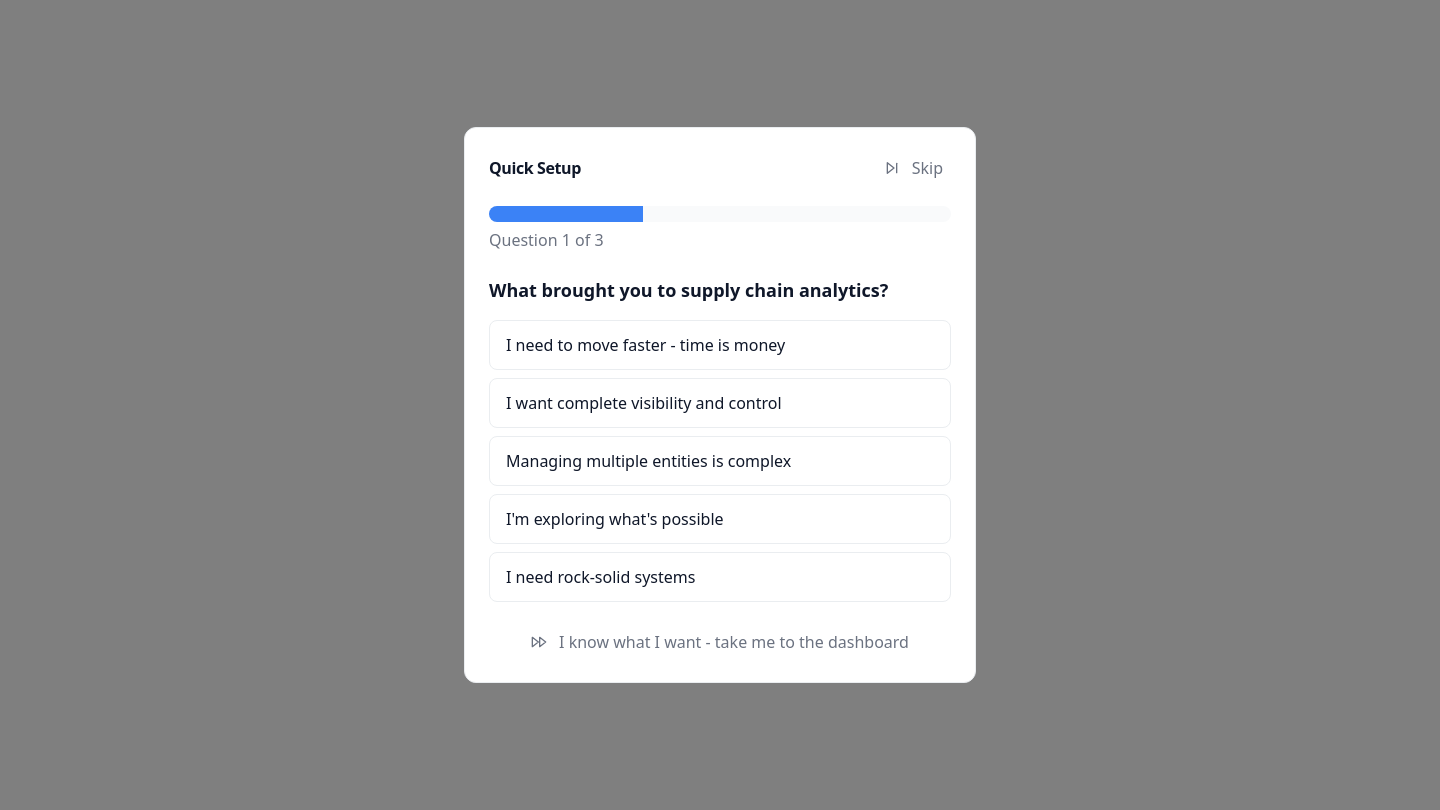
Scenario: UniversalOnboarding › progresses through questions when answers are clicked
# Answer first question
Click the button "I need to move faster - time is money" at [720, 345], box [489,320,951,370]
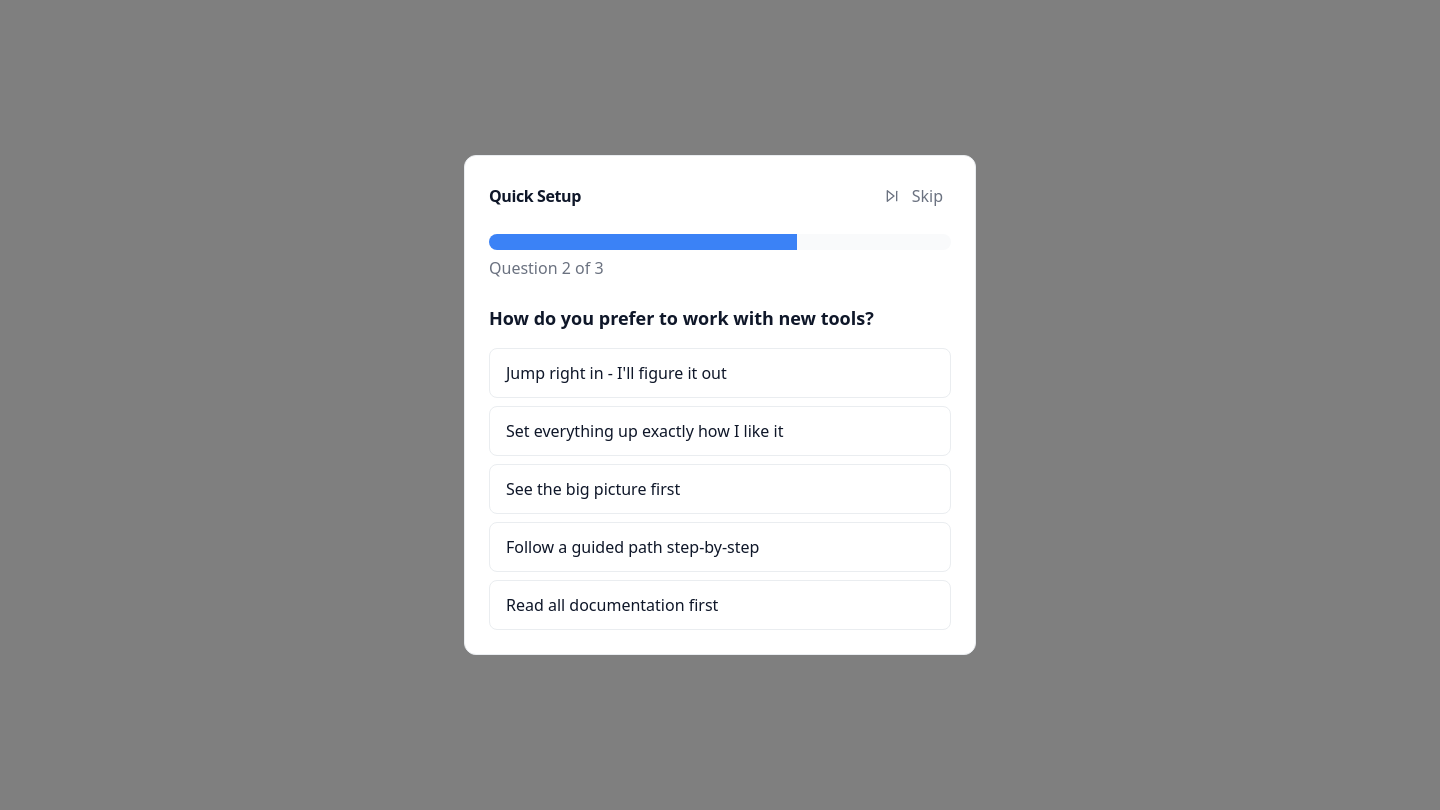
Expected: the heading "How do you prefer to work with new tools?" is shown, [489,306,874,330]
Expected: the text "Question 2 of 3" is shown, [489,257,604,279]
# Answer second question
Click the button "Jump right in - I'll figure it out" at [720, 373], box [489,348,951,398]
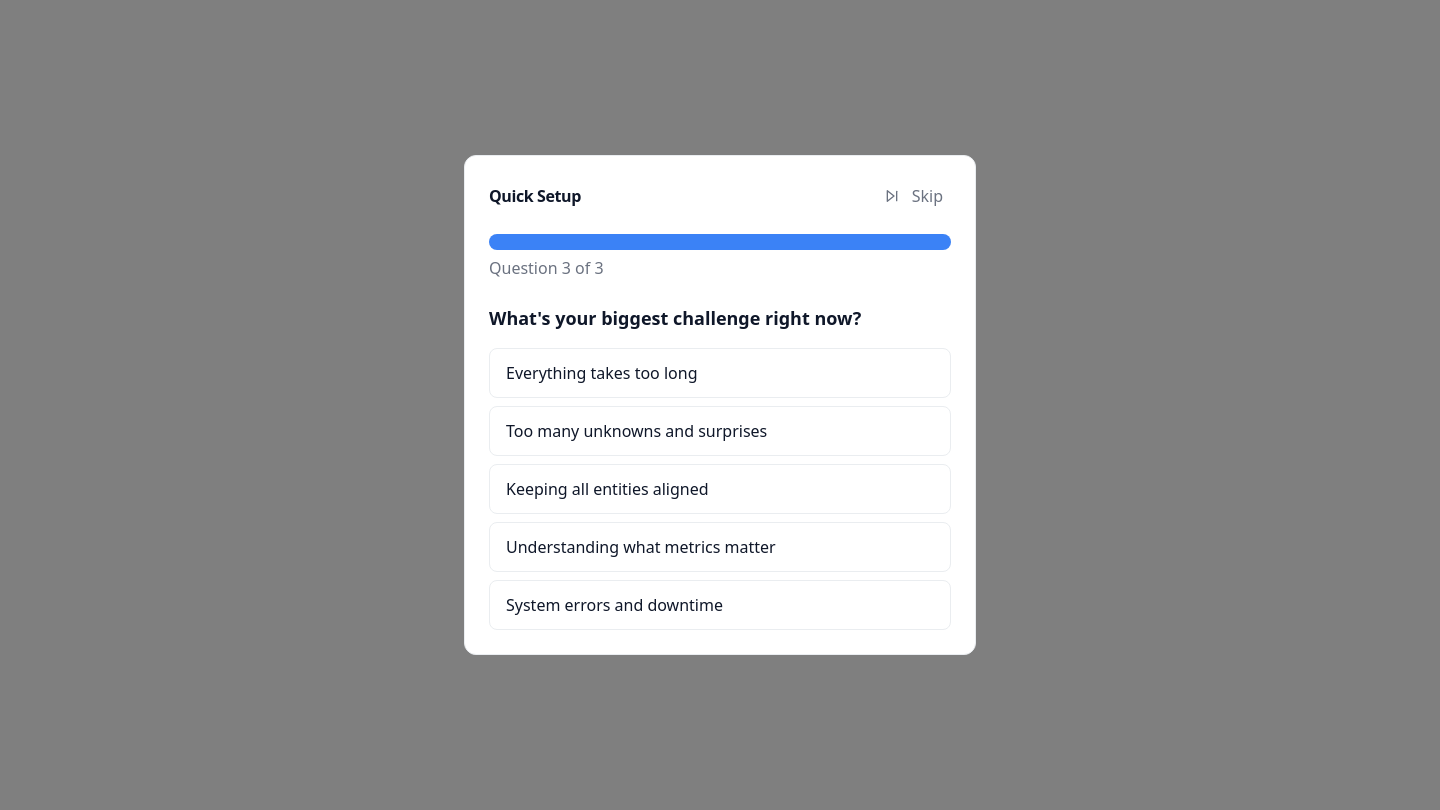
Expected: the heading "What's your biggest challenge right now?" is shown, [489,306,861,330]
Expected: the text "Question 3 of 3" is shown, [489,257,604,279]
